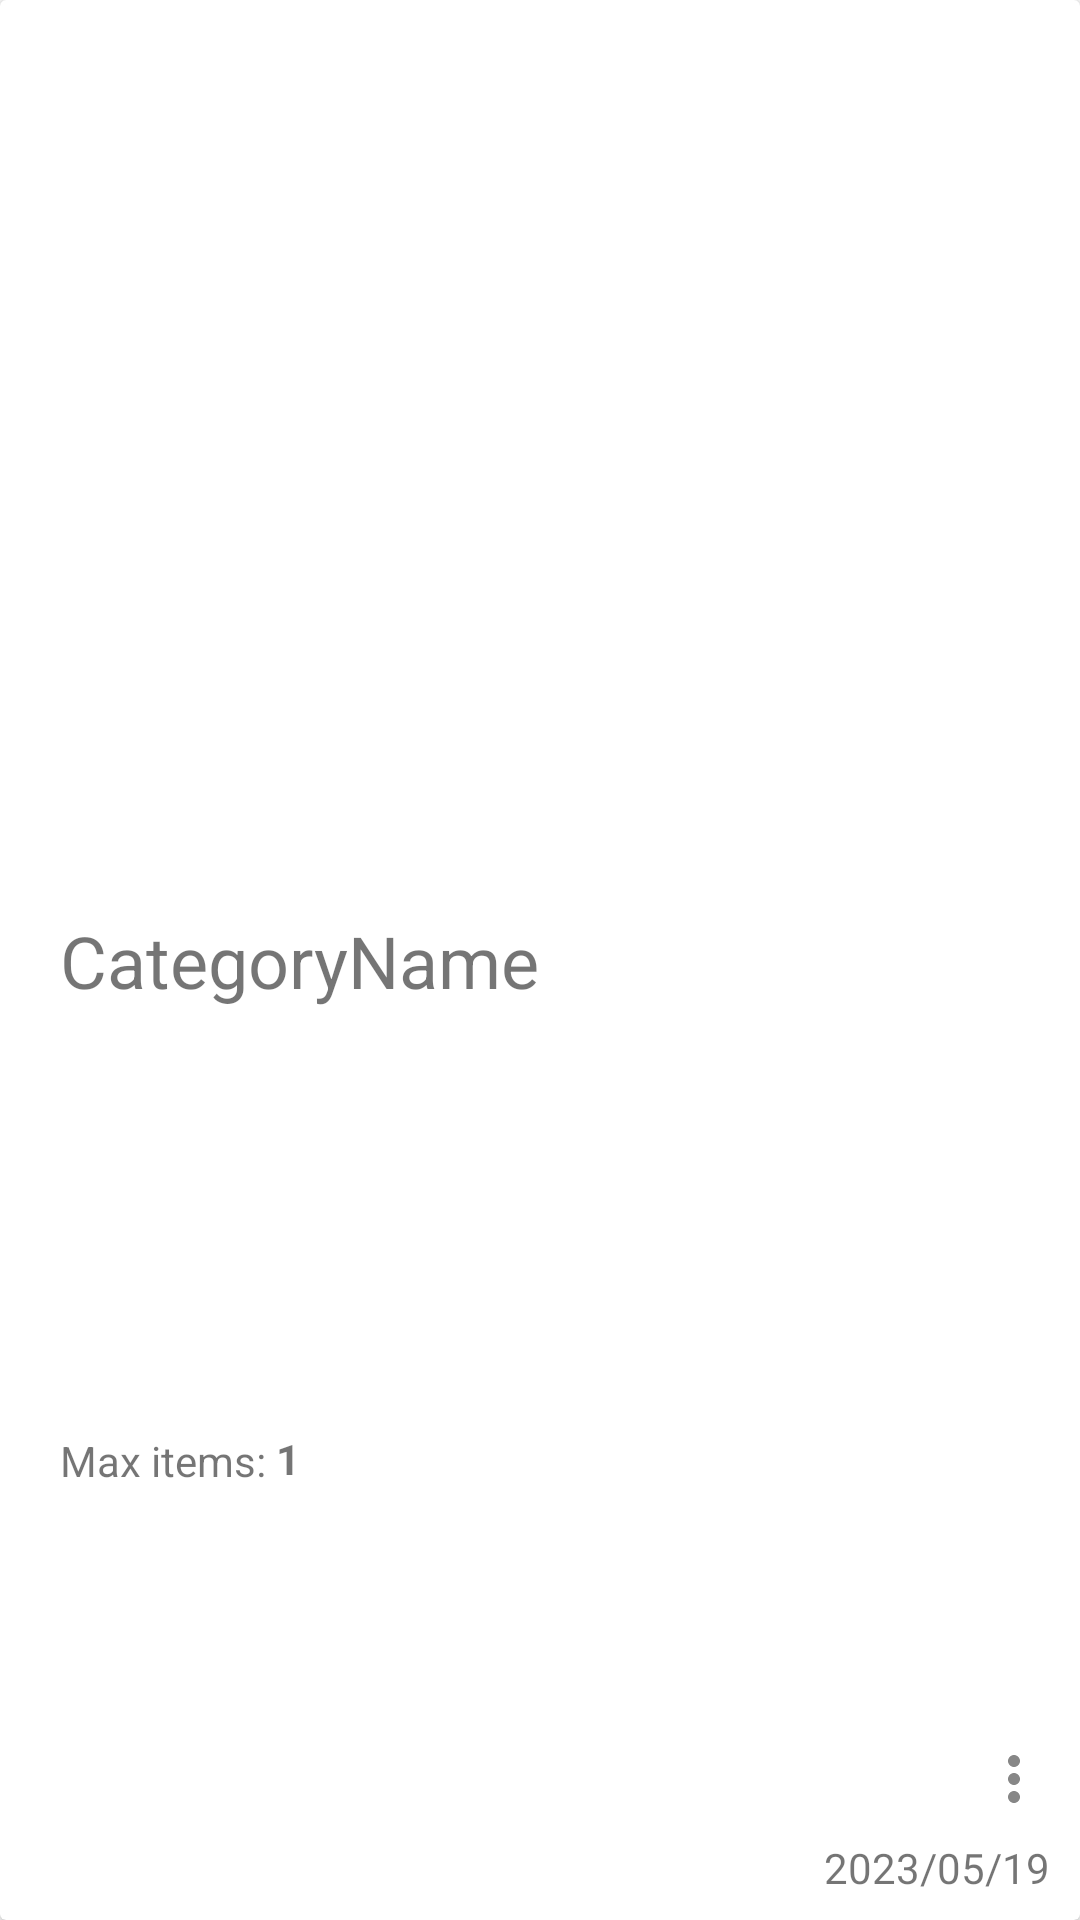

Screen size 1080*1920. Icon name, then its box in pixels as (x1=x1, y1=y1, x2=x2, y2=y2):
options: (x1=1008, y1=1755, x2=1020, y2=1803)
